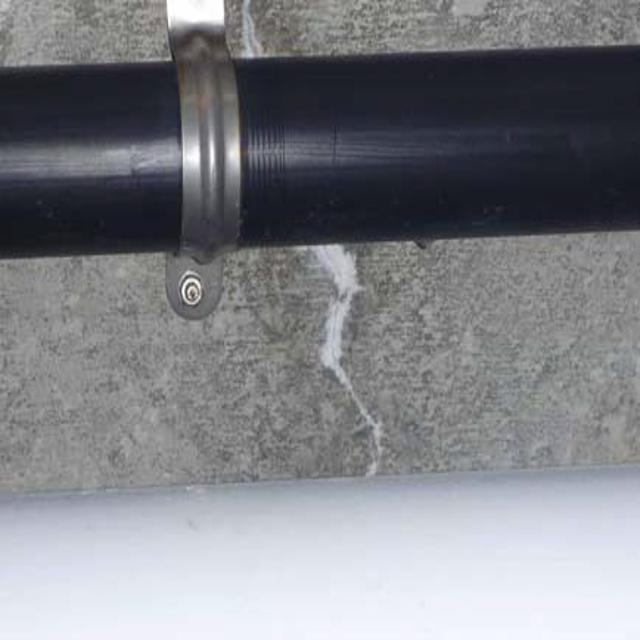freelime: (306, 242, 388, 497)
